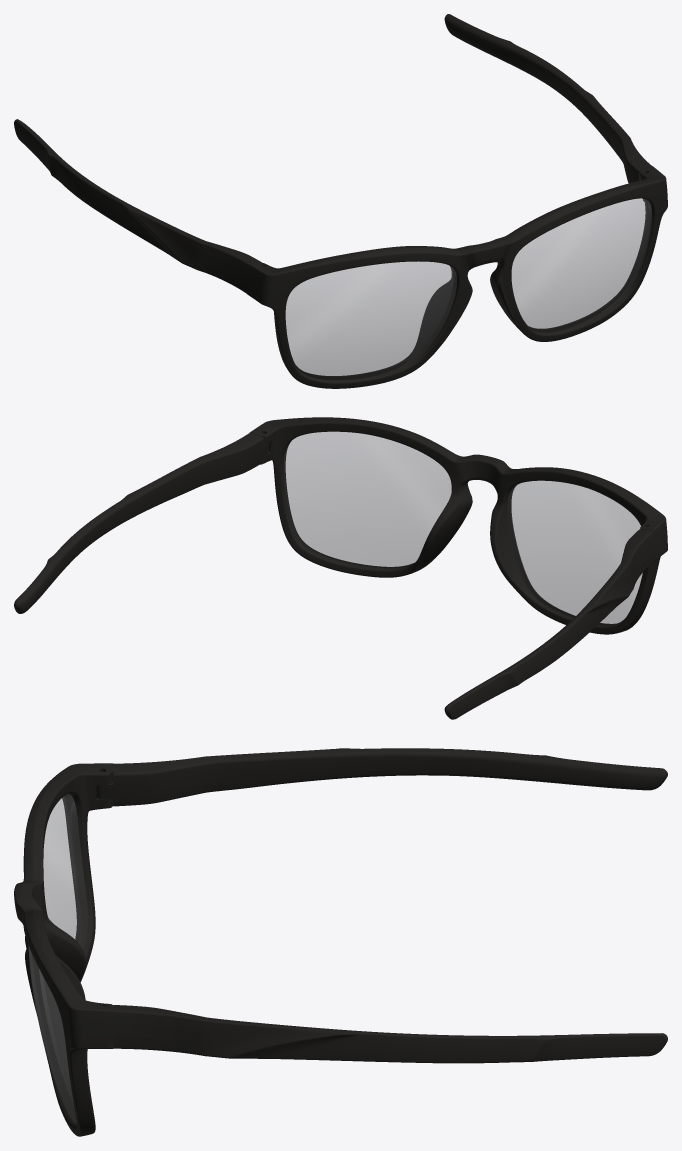
File: ARQ_ALLBLACK.glb
3 views of the same model, one above another, from view 1: azimuth 30°, elevation 25°; view 2: azimuth 150°, elevation 25°; view 3: azimuth 270°, elevation 25° (orthographic). The views are drawn at different scales.
Visible parts, largest first — view 1: Frame, LensR, LensL, TempleR, TempleL; view 2: LensL, Frame, LensR, TempleL, TempleR; view 3: Frame, TempleL, TempleR, LensR, LensL.
Part boxes in pixels (box(x1,y1,x2,y2)): Frame: box(246, 166, 667, 388); LensR: box(286, 261, 456, 379); LensL: box(512, 198, 651, 332); TempleR: box(14, 119, 262, 293); TempleL: box(444, 14, 651, 183); LensL: box(284, 432, 451, 568); Frame: box(250, 417, 667, 634); LensR: box(507, 481, 642, 624); TempleL: box(14, 432, 263, 613); TempleR: box(444, 529, 655, 719); Frame: box(14, 763, 115, 1136); TempleL: box(113, 1005, 667, 1063); TempleR: box(113, 748, 667, 806); LensR: box(43, 794, 87, 948); LensL: box(29, 947, 76, 1123).
Bounding box in the file's own units: 0.1671 × 0.048 × 0.1586.
3 materials, 3 textured.
